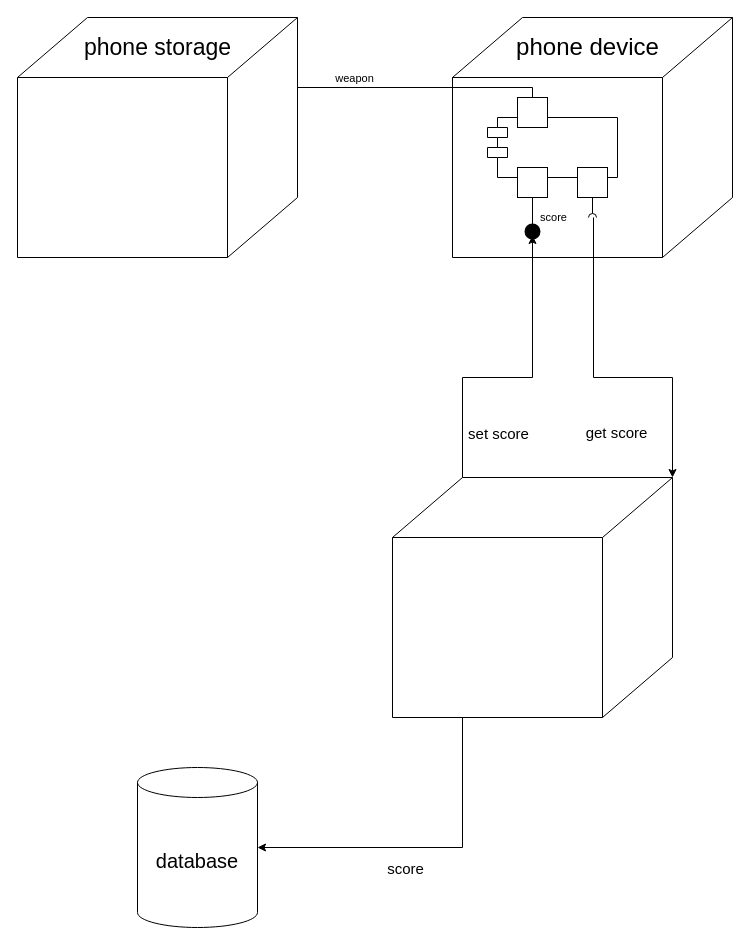
Some shapes in this 750 by 945 pixel diagram are drawn without their labels. Here are the shapes that lost their labels. From the top down, the centre of each, then its label:
At point (552, 147): "Player".
At point (532, 597): "server(API)".
